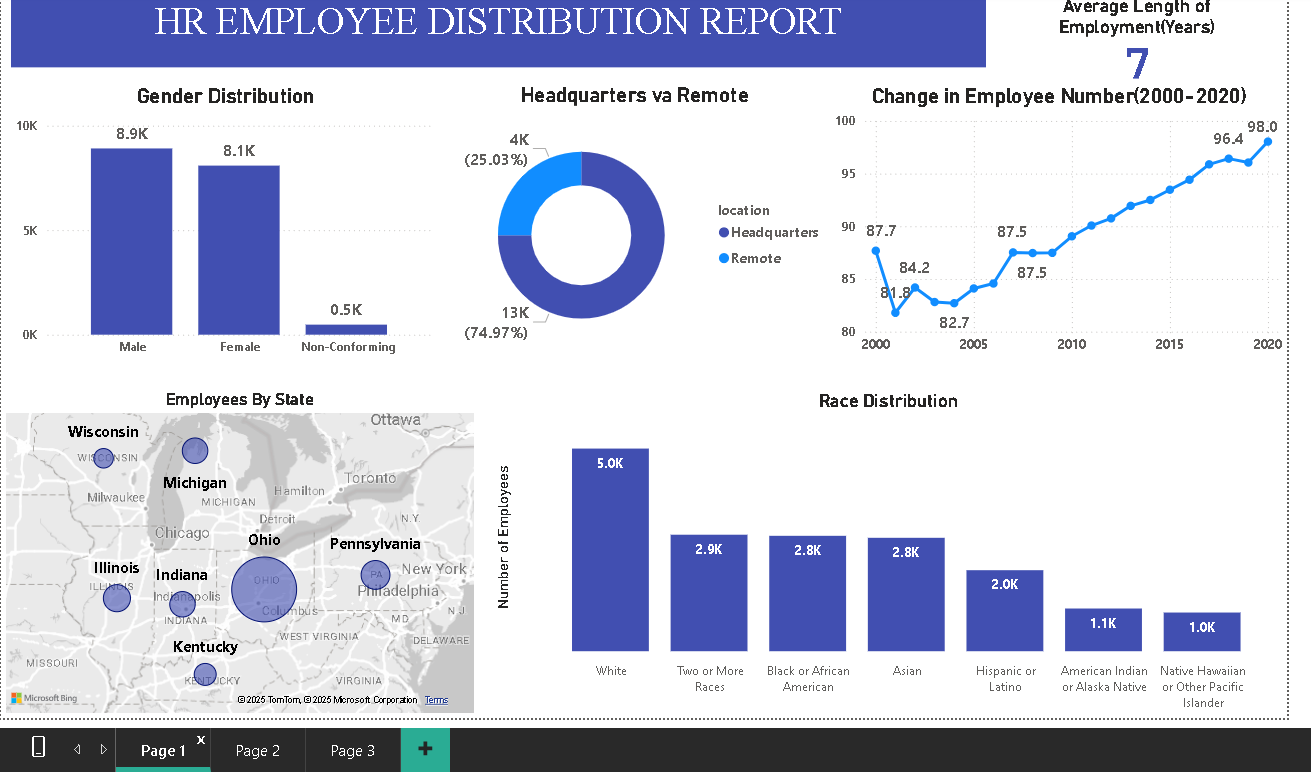

This screenshot's page, from the dashboard's own definition file:
{"tool":"powerbi","page":{"name":"Page 1","canvas":[1280,720],"ordinal":0},"visuals":[{"type":"textbox","box":[9.8,0,970.6,72.1],"z":0},{"type":"card","title":"Average Length of Employment(Years)","fields":{"Values":["Sum(avg_length_employment.avg_length_employment)"]},"box":[980.2,0,299.8,88.3],"z":1000},{"type":"columnChart","title":"Gender Distribution","fields":{"Category":["gender.gender"],"Y":["Sum(gender.count)"]},"box":[9.8,88,426.6,279.9],"z":2000},{"type":"donutChart","title":"Headquarters va Remote","fields":{"Y":["Sum(location.count)"],"Category":["location.location"]},"box":[436.6,87.1,388.1,281.1],"z":3000},{"type":"lineChart","title":"Change in Employee Number(2000-2020)","fields":{"Category":["employee_change.year"],"Y":["Sum(employee_change.net_change_percent)"]},"box":[824.7,88.3,455.3,279.9],"z":4000},{"type":"map","title":"Employees By State","fields":{"Size":["Sum(state.count)"],"Category":["state.location_state"]},"box":[0,391.8,475.2,327.2],"z":5000},{"type":"clusteredColumnChart","title":"Race Distribution","fields":{"Category":["race.race"],"Y":["Sum(race.count)"]},"box":[486.4,393.1,793.6,327.2],"z":6000}]}

Visuals, with their boxes on the page's 1280x720 design canvas (x1, y1, x2, y2). These are canvas units, not pixel positions in the 1311x772 screenshot, which may show the page scaled, cropped or inside an application window:
textbox: x1=10 y1=0 x2=980 y2=72
"Average Length of Employment(Years)" card: x1=980 y1=0 x2=1280 y2=88
"Gender Distribution" columnChart: x1=10 y1=88 x2=436 y2=368
"Headquarters va Remote" donutChart: x1=437 y1=87 x2=825 y2=368
"Change in Employee Number(2000-2020)" lineChart: x1=825 y1=88 x2=1280 y2=368
"Employees By State" map: x1=0 y1=392 x2=475 y2=719
"Race Distribution" clusteredColumnChart: x1=486 y1=393 x2=1280 y2=720
